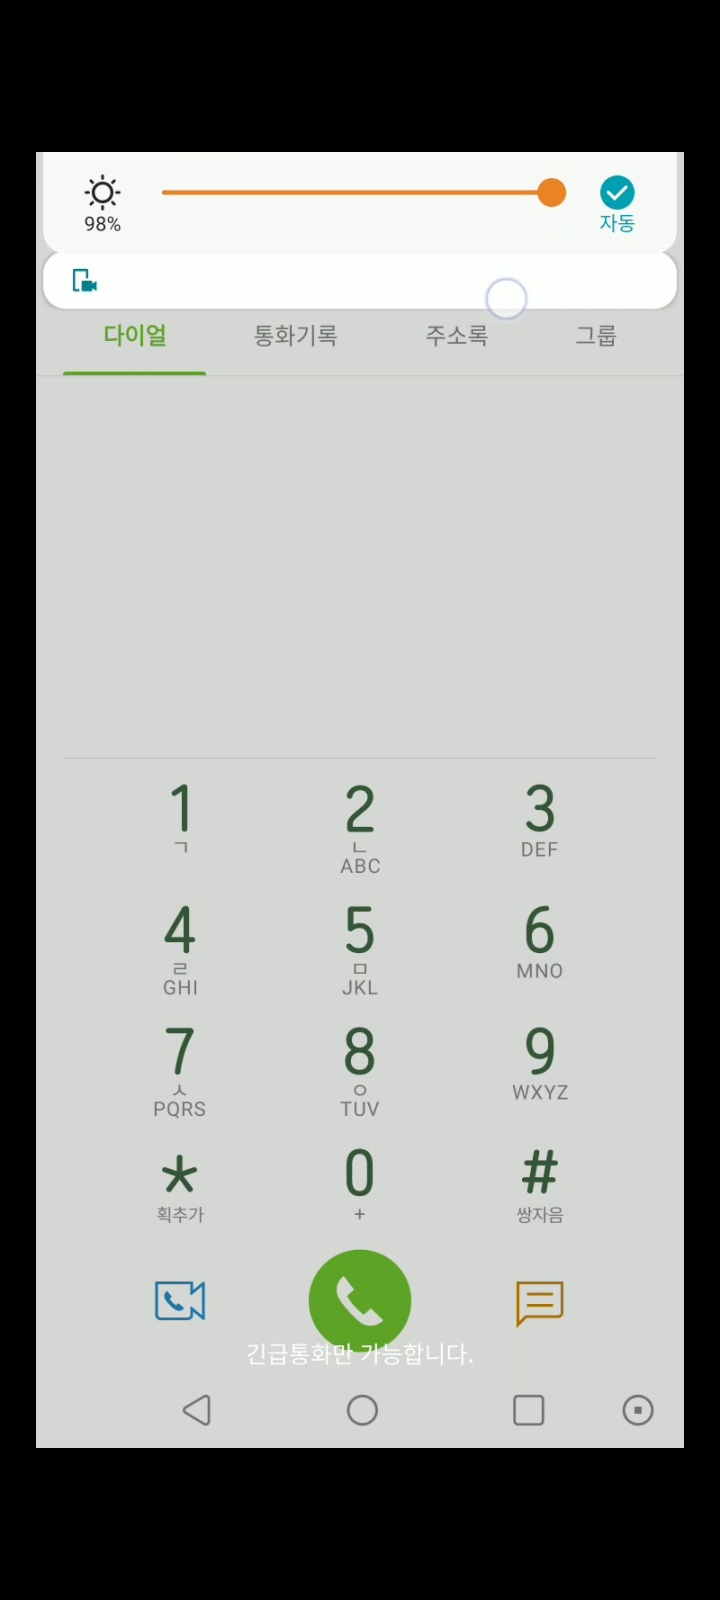Cursor: (484, 276, 529, 321)
